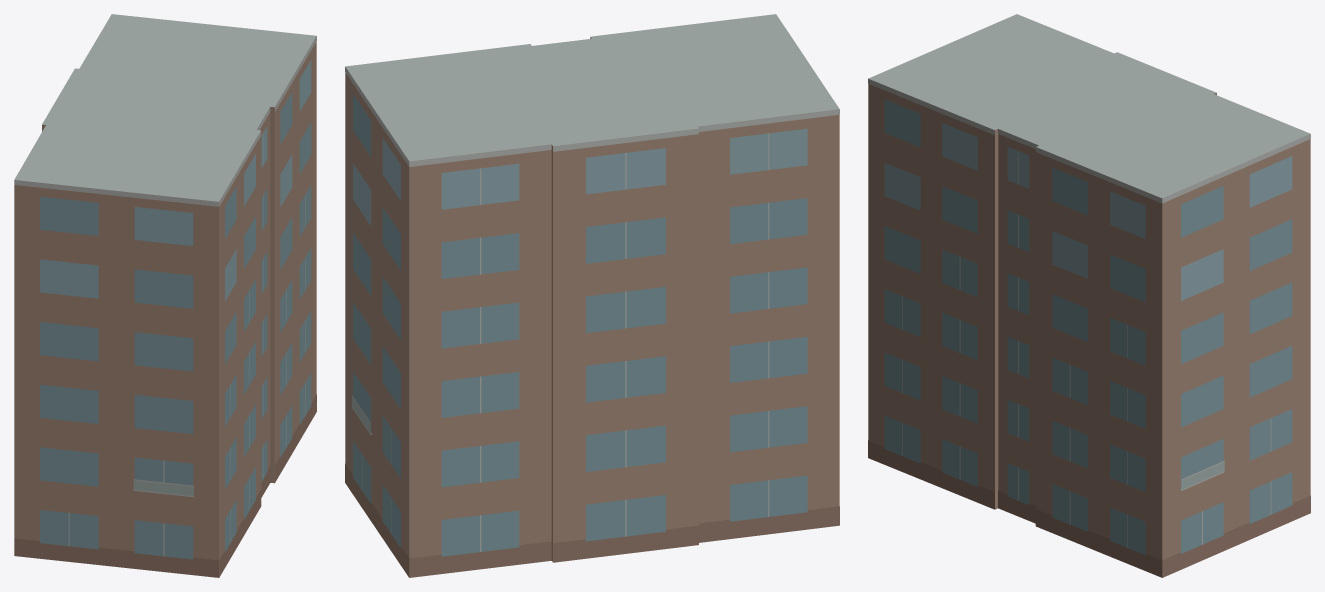
The model's file is survey-upis-32930057.glb.
The picture shows the model from 3 angles, left to right: view 1: azimuth 30°, elevation 25°; view 2: azimuth 150°, elevation 25°; view 3: azimuth 270°, elevation 25°; orthographic projection. The views are drawn at different scales.
Visible parts, largest first — view 1: survey-upis-32930057.tmp; view 2: survey-upis-32930057.tmp; view 3: survey-upis-32930057.tmp.
Boxes of the visible parts, x1,y1,x2,y2 form: survey-upis-32930057.tmp: [14, 14, 316, 577]; survey-upis-32930057.tmp: [345, 14, 839, 577]; survey-upis-32930057.tmp: [868, 14, 1310, 577].
Size of the model in its own units: 19.09 by 18.3 by 19.36.
